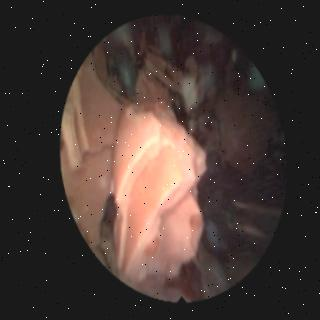stone: (59, 28, 203, 294), (212, 89, 270, 173)
